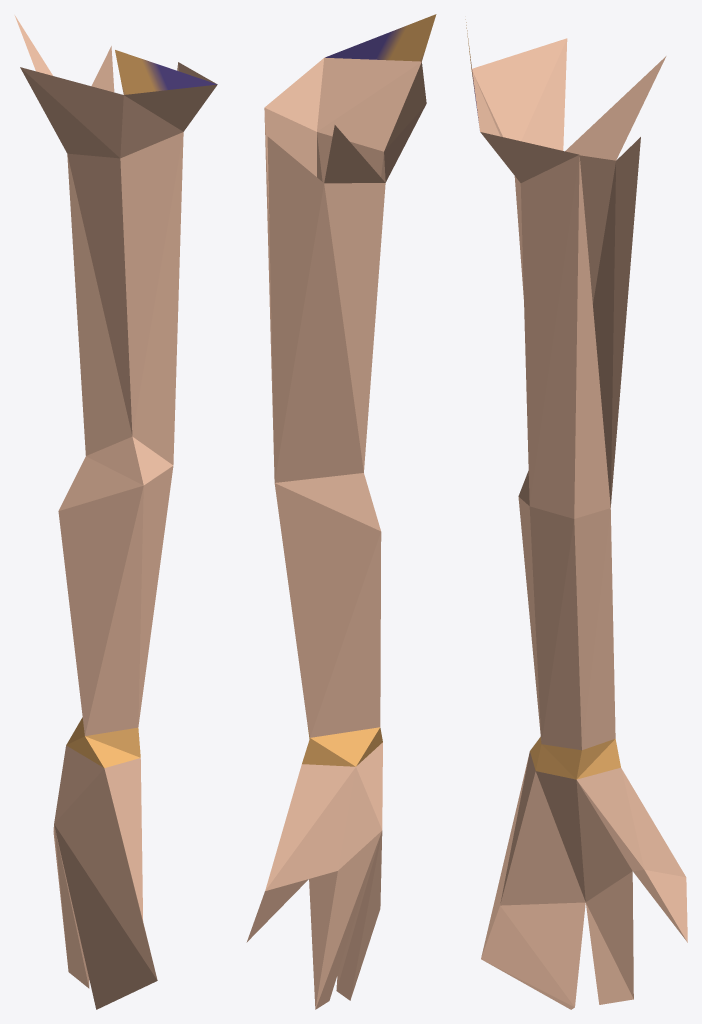
Rendered from ArmL_Lo.obj.
3 renders of one model, left to right at view 1: azimuth 30°, elevation 25°; view 2: azimuth 150°, elevation 25°; view 3: azimuth 270°, elevation 25°, orthographic. The views are drawn at different scales.
Size of the model in its own units: 0.1554 by 0.9099 by 0.1876.
Materials: 1 (1 with a texture image).
